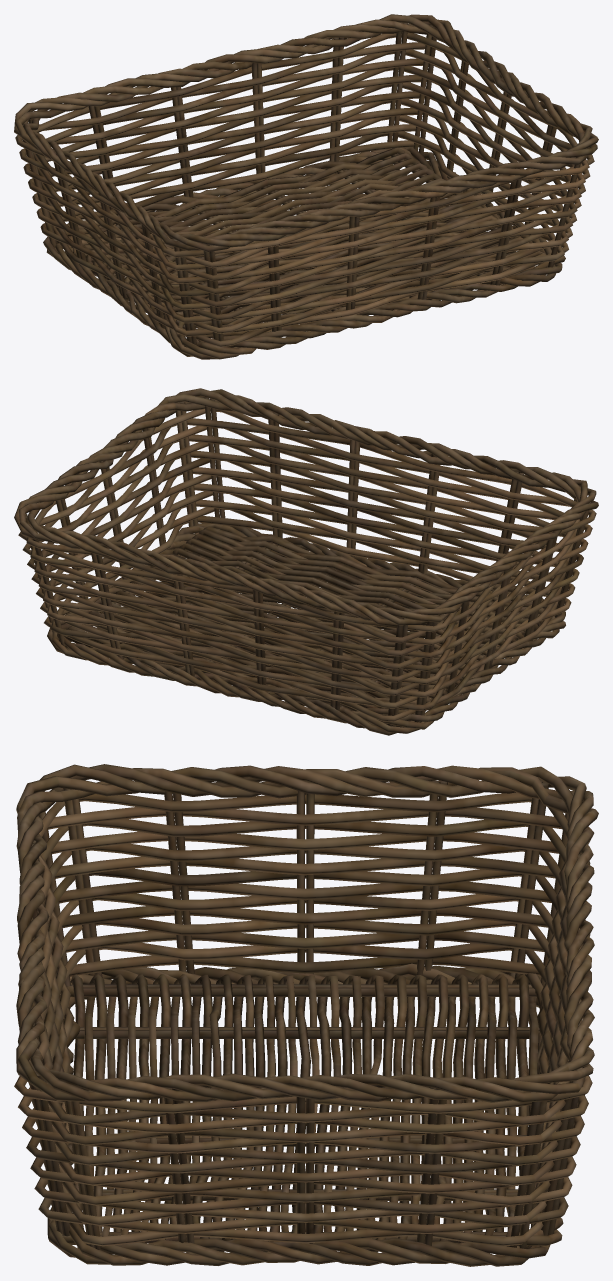
Rendered from wicker_basket_01.gltf.
The picture shows the model from 3 angles, top to bottom: view 1: azimuth 30°, elevation 25°; view 2: azimuth 150°, elevation 25°; view 3: azimuth 270°, elevation 25°; orthographic projection. The views are drawn at different scales.
Visible parts, largest first — view 1: wicker_basket_01; view 2: wicker_basket_01; view 3: wicker_basket_01.
Part boxes in pixels (x1,y1,x2,y2): wicker_basket_01: (14, 14, 598, 359); wicker_basket_01: (14, 388, 598, 735); wicker_basket_01: (14, 764, 598, 1266).
Size of the model in its own units: 0.3832 by 0.1174 by 0.295.
1 material, 1 textured.
